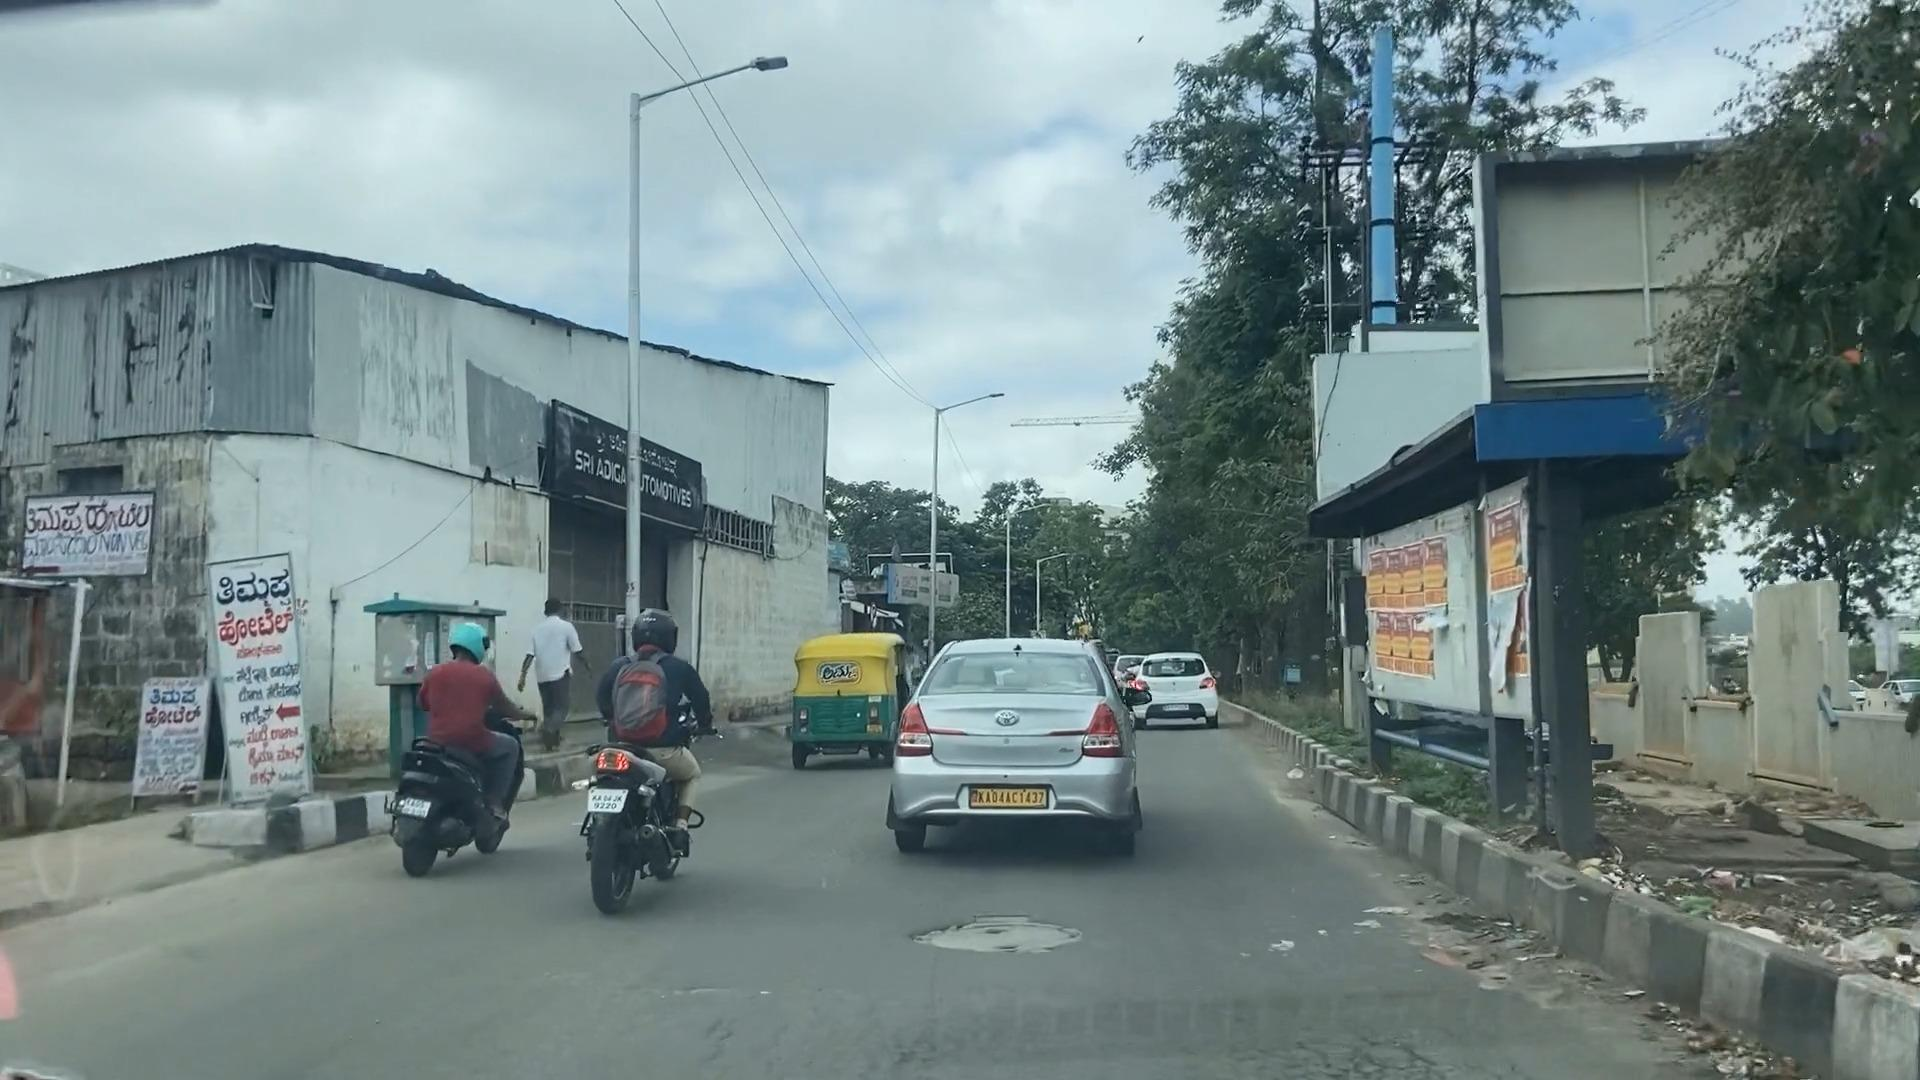LMV: (913, 655, 1100, 825), (608, 612, 696, 906), (411, 636, 520, 865), (802, 642, 887, 753), (1141, 651, 1215, 750)
RoadDamages: (905, 914, 1096, 982), (1379, 909, 1539, 990), (1261, 1025, 1443, 1080), (673, 960, 746, 1027)
